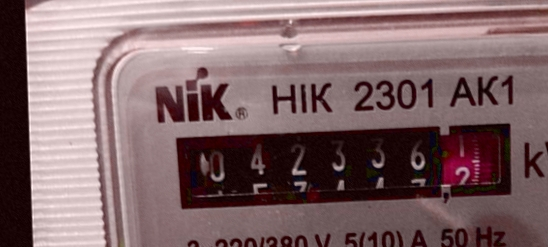0: (206, 148, 227, 183)
1: (453, 131, 467, 160)
2: (287, 141, 308, 178), (452, 165, 471, 186)
3: (366, 134, 387, 171), (328, 136, 348, 174)
4: (247, 139, 267, 177)
6: (405, 136, 428, 172)
screen: (167, 113, 522, 218)
